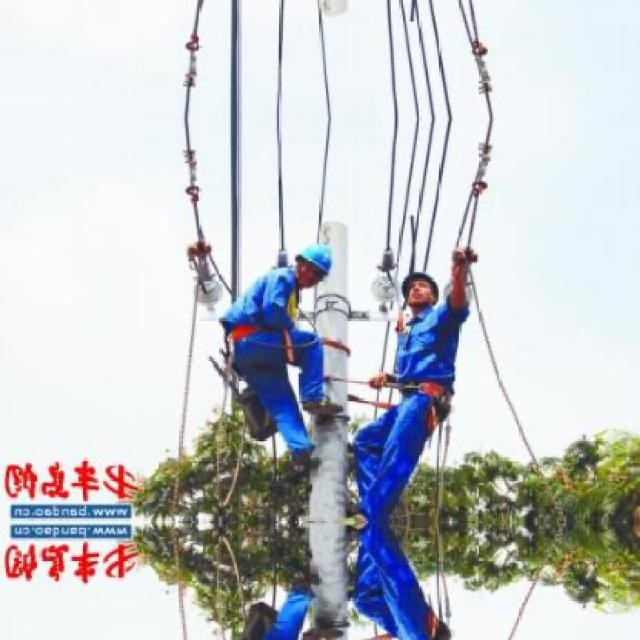con casco: (274, 224, 382, 322), (384, 254, 483, 308)
